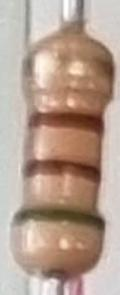Brown: (24, 105, 107, 137), (22, 156, 105, 187)
Green: (11, 199, 105, 231)
Side-Silver: (23, 48, 116, 81)
